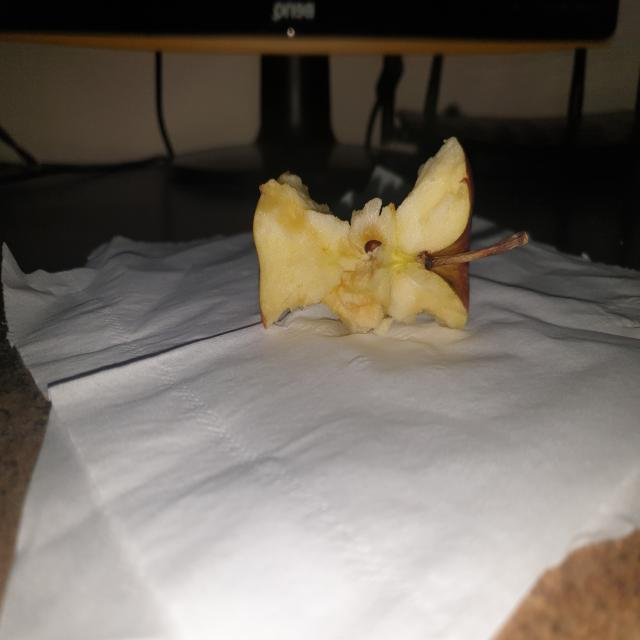apple: (240, 136, 538, 344)
